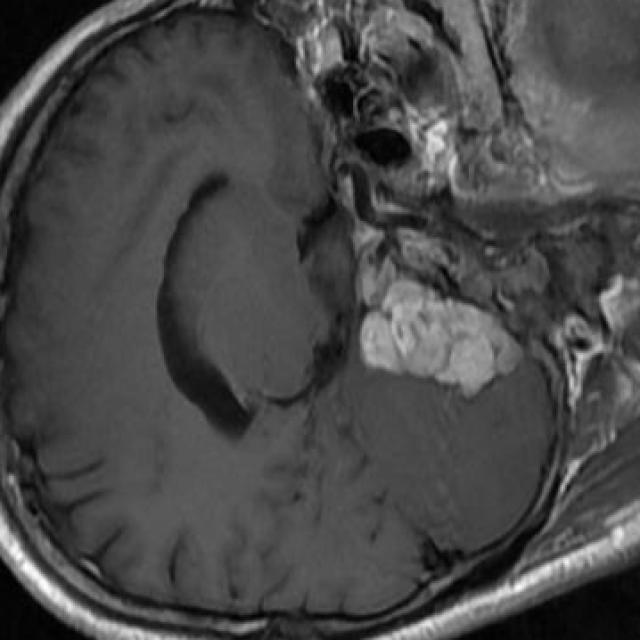meningioma: (358, 283, 519, 394)
